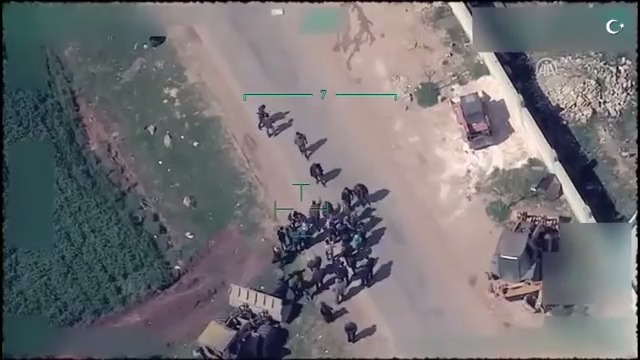insan: (352, 180, 379, 207), (291, 128, 313, 160), (308, 158, 329, 188), (262, 109, 281, 140), (318, 299, 339, 326), (342, 317, 362, 344)
